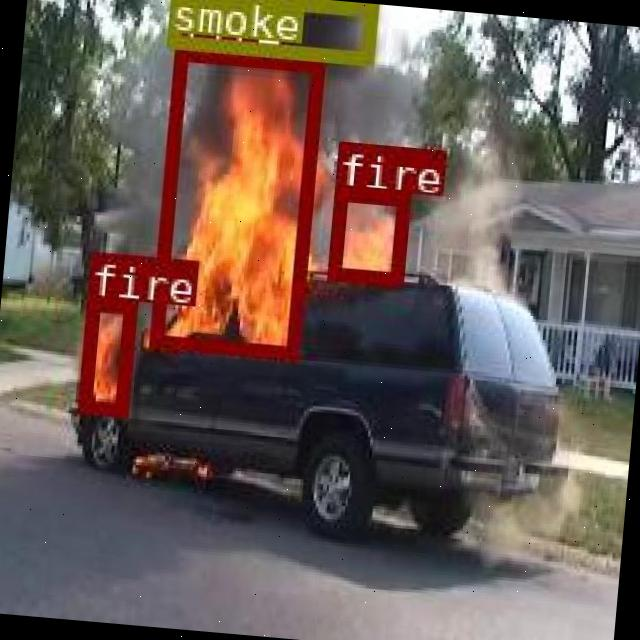fire: (147, 45, 321, 357), (326, 184, 409, 282), (74, 296, 135, 414)
smoke: (166, 0, 375, 63)
